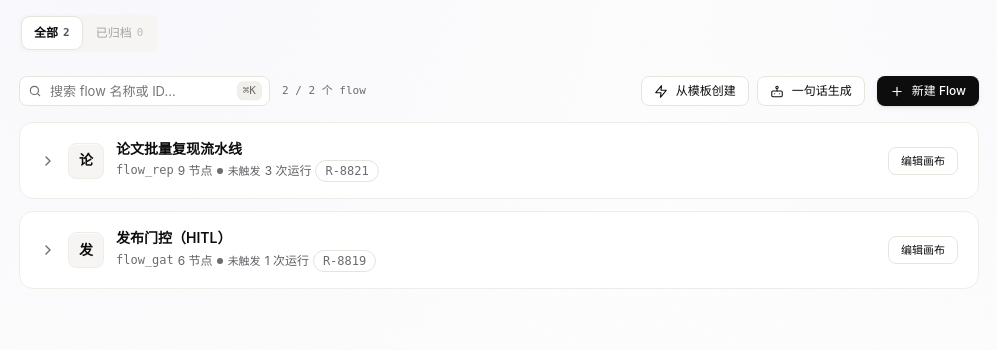
Scenario: FlowsView list-page (M2.1 fidelity) › filters flows by search query (visibleFlows scope + search)
The image size is (997, 350).
Expected: the text "论文批量复现流水线" is shown, [116,140,242,157]
Expected: the text "发布门控（HITL）" is shown, [116,229,232,246]
Note: Type a query matching neither fixture — the list empties.
Type "不存在的flow" into the search field labelled "搜索 flow" at (144,91), box [19,76,270,106]
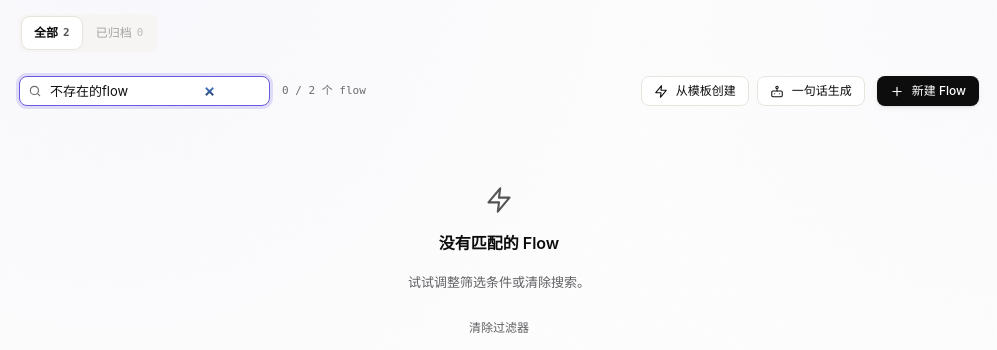
Expected: the button "论文批量复现流水线" is gone
Expected: the button "发布门控（HITL）" is gone
Expected: the text "没有匹配的 Flow" is shown, [439,230,559,256]
